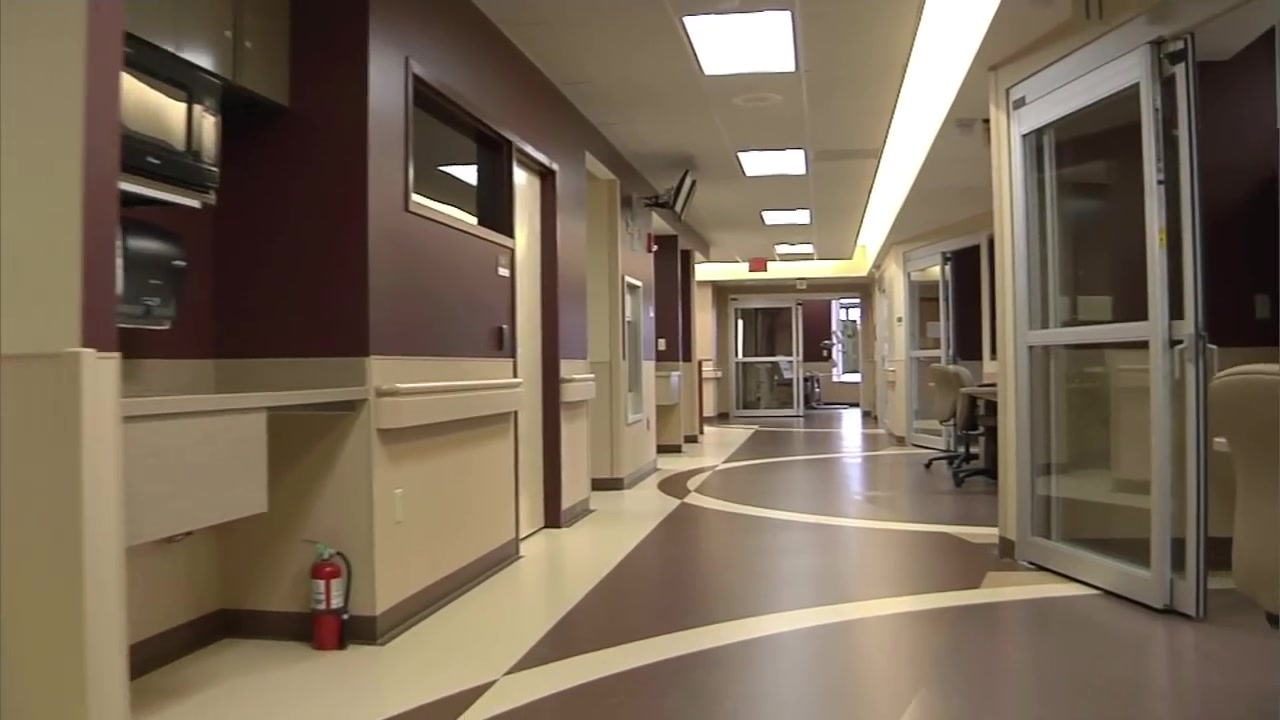TV: (671, 169, 697, 222)
chair: (1203, 365, 1280, 633), (951, 365, 998, 488), (926, 363, 979, 470)
counter: (111, 385, 362, 536)
countertop: (125, 376, 368, 428)
dispenser: (118, 231, 199, 340)
door_handle: (1173, 332, 1193, 383), (1201, 334, 1221, 384)
hallway_assist_bar: (375, 378, 524, 395), (561, 373, 596, 381), (701, 367, 722, 371)
sofa: (761, 357, 823, 409)
